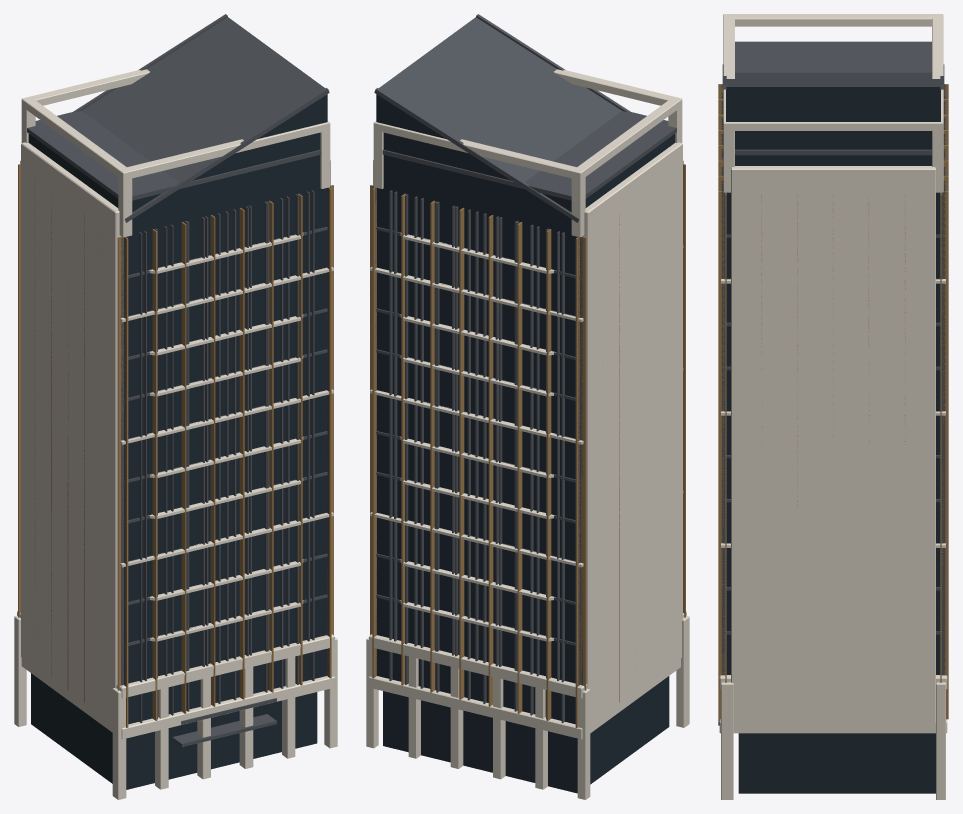
Rendered from tower-office.glb.
The picture shows the model from 3 angles, left to right: view 1: azimuth 30°, elevation 25°; view 2: azimuth 150°, elevation 25°; view 3: azimuth 270°, elevation 25°; orthographic projection. The views are drawn at different scales.
Parts seen in each view (by area): view 1: tower-office_v0, tower-office_v2, tower-office_v3, tower-office_v1; view 2: tower-office_v2, tower-office_v0, tower-office_v3, tower-office_v1; view 3: tower-office_v2, tower-office_v0, tower-office_v3, tower-office_v1.
Boxes of the visible parts, <box> form: tower-office_v0: <box>14,111,337,799</box>; tower-office_v2: <box>18,14,333,727</box>; tower-office_v3: <box>14,69,337,798</box>; tower-office_v1: <box>43,143,303,691</box>; tower-office_v2: <box>370,14,685,727</box>; tower-office_v0: <box>366,111,689,799</box>; tower-office_v3: <box>366,69,689,798</box>; tower-office_v1: <box>400,138,662,698</box>; tower-office_v2: <box>718,64,948,723</box>; tower-office_v0: <box>718,41,947,799</box>; tower-office_v3: <box>719,14,947,799</box>; tower-office_v1: <box>765,150,901,165</box>.
Size of the model in its own units: 21.4 by 61.29 by 18.
